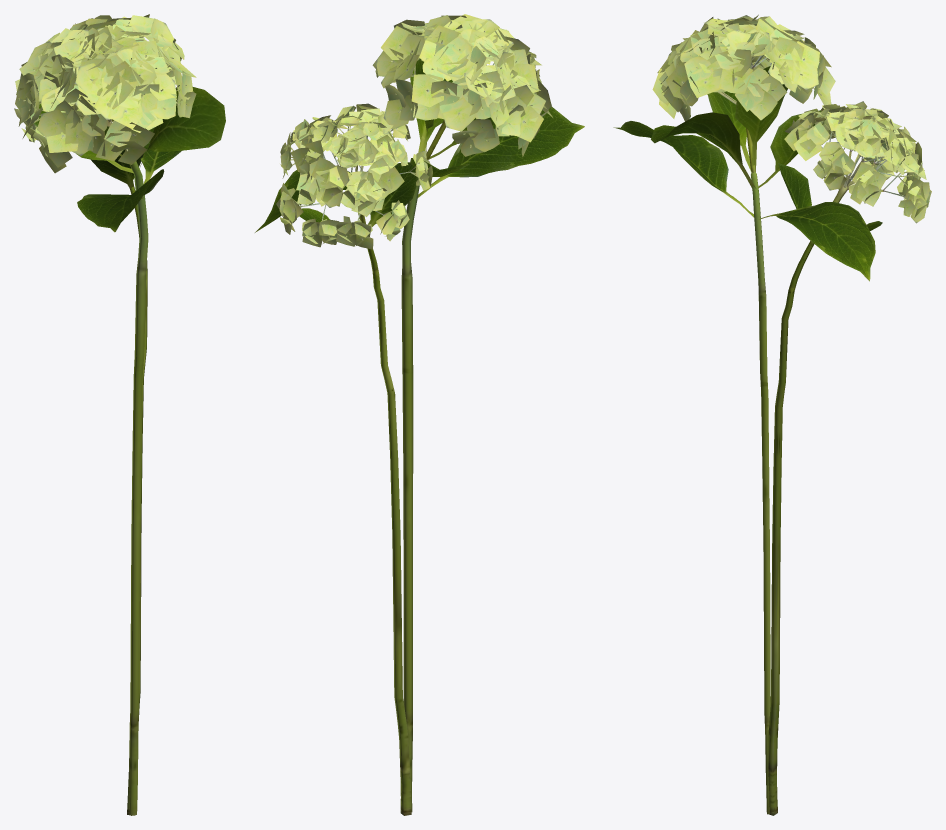
File: Hydrangea_bush_long_greenyellow.glb
3 renders of one model, left to right at view 1: azimuth 30°, elevation 25°; view 2: azimuth 150°, elevation 25°; view 3: azimuth 270°, elevation 25°, orthographic. The views are drawn at different scales.
Visible parts, largest first — view 1: BUSHEKK; view 2: BUSHEKK; view 3: BUSHEKK.
Boxes of the visible parts, box(x1,y1,x2,y2) form: BUSHEKK: box(14, 14, 225, 815); BUSHEKK: box(255, 14, 584, 815); BUSHEKK: box(613, 14, 931, 815).
Bounding box in the file's own units: 1.48 × 5.02 × 1.87.
Materials: 1 (1 with a texture image).
